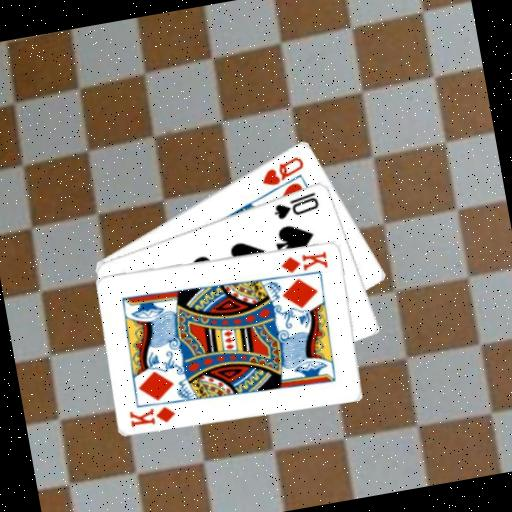10S: (268, 188, 322, 222)
KD: (276, 247, 330, 277), (125, 400, 178, 430)
QH: (255, 152, 308, 189)
